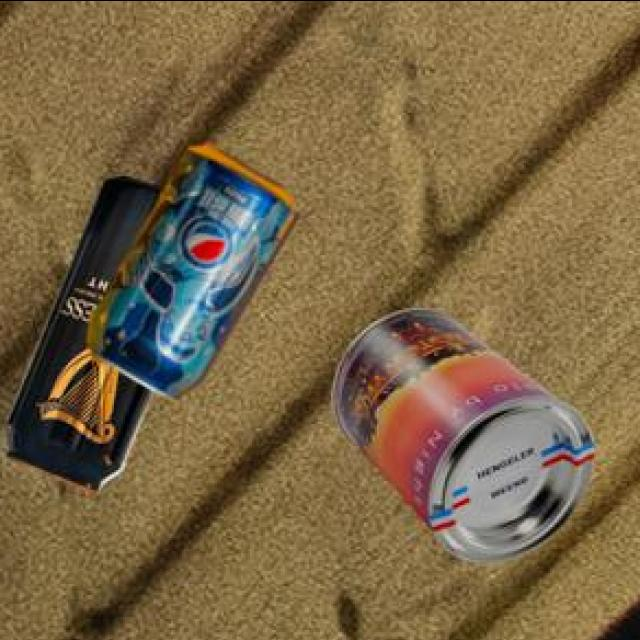logam: (336, 306, 597, 558), (91, 139, 304, 396), (10, 172, 167, 490)
